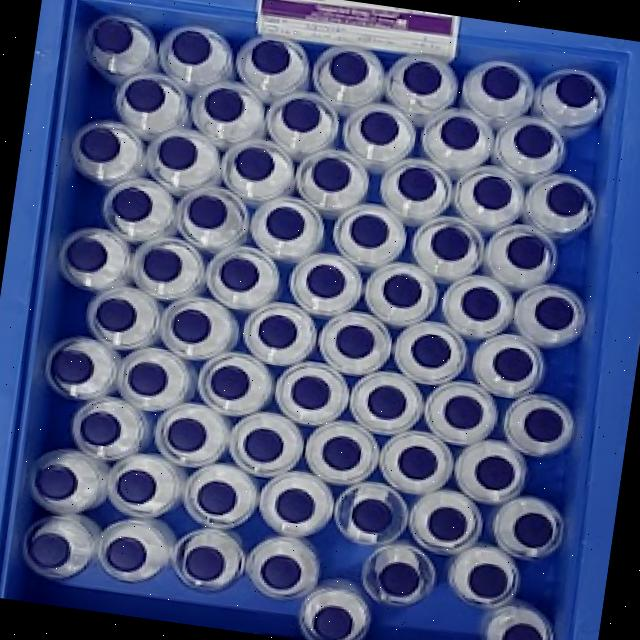vials: (35, 465, 78, 500), (51, 349, 94, 384), (351, 498, 393, 533), (28, 533, 70, 568), (80, 128, 121, 163), (66, 237, 107, 272), (261, 555, 302, 590), (378, 562, 419, 597), (546, 182, 588, 216), (93, 19, 133, 54), (172, 30, 212, 65), (112, 187, 152, 222), (427, 507, 467, 542), (185, 546, 225, 581), (106, 538, 147, 572), (397, 446, 438, 480), (514, 513, 553, 548), (468, 564, 507, 599), (322, 436, 361, 471), (204, 88, 244, 122), (397, 167, 437, 201), (506, 235, 546, 269), (219, 258, 259, 292), (143, 248, 183, 282), (96, 298, 136, 332), (411, 334, 451, 368), (475, 456, 515, 490), (313, 606, 353, 640), (116, 470, 156, 504), (197, 481, 237, 515), (128, 362, 168, 396), (210, 365, 250, 399), (81, 412, 121, 446), (125, 79, 166, 112), (236, 147, 275, 181), (188, 195, 227, 229), (251, 40, 290, 74), (312, 157, 351, 191), (266, 206, 305, 240), (403, 61, 442, 95), (350, 214, 389, 248), (431, 227, 470, 261), (461, 287, 500, 321), (172, 309, 211, 343), (524, 408, 563, 442), (276, 489, 315, 523), (367, 385, 406, 419), (444, 395, 483, 429), (168, 418, 207, 452), (158, 137, 198, 170), (481, 66, 521, 99), (440, 117, 480, 150), (514, 125, 554, 158), (258, 315, 298, 348), (330, 51, 368, 85), (282, 98, 320, 132), (361, 111, 399, 145), (336, 325, 374, 359), (556, 74, 595, 107), (307, 265, 346, 298), (383, 274, 422, 307), (535, 297, 574, 330), (291, 376, 330, 409), (244, 429, 283, 462), (474, 176, 512, 209), (494, 348, 532, 381), (502, 624, 542, 640)
